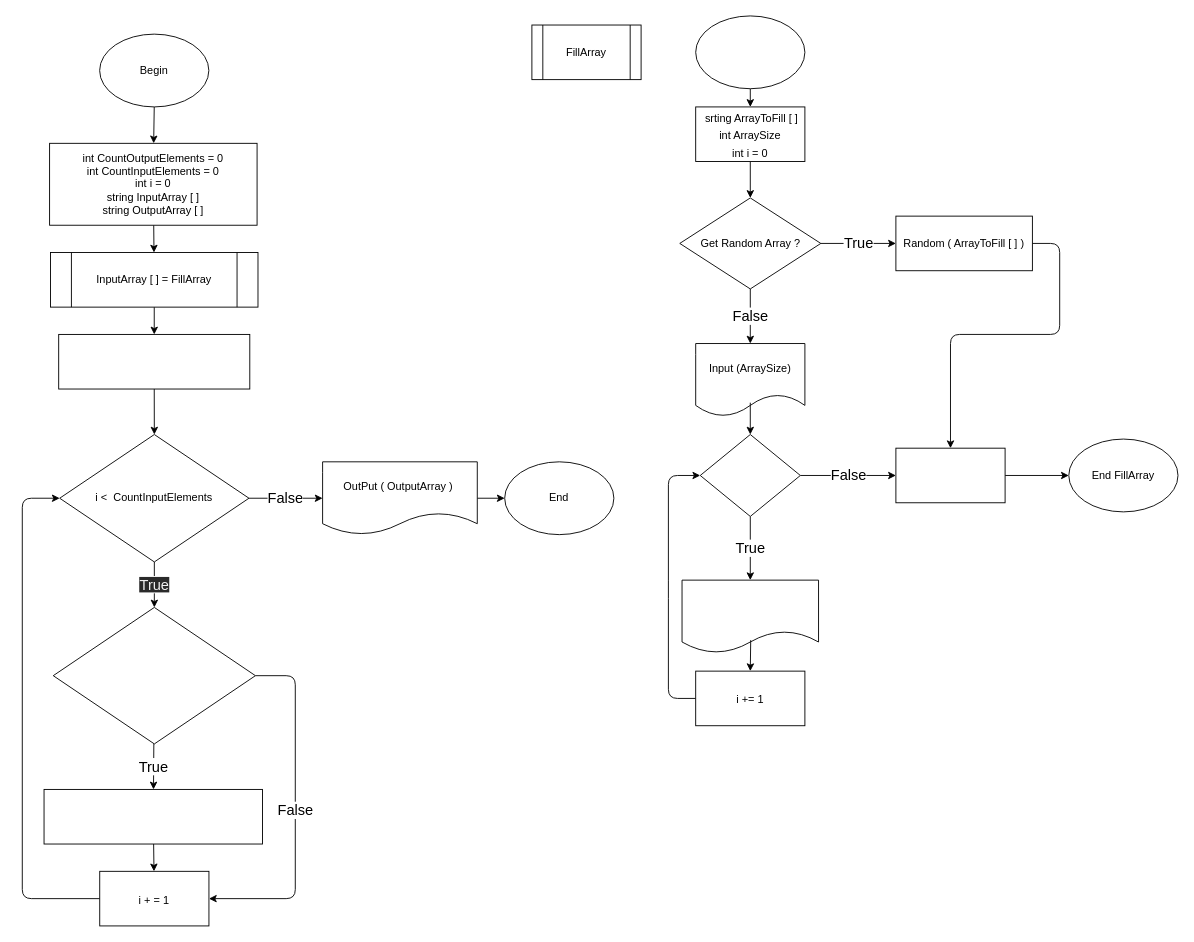
Some shapes in this 1194 by 942 pixel diagram are drawn without their labels. Here are the shapes that lost their labels. From the top down, the centre of each, then its label:
(x=750, y=52): Begin FillArray
(x=154, y=361): CountInputElements = ArraySize ( InputArray [ ] )
(x=749, y=475): i < ArraySize
(x=950, y=475): Return ArrayToFill
(x=750, y=616): Input ( ArrayToFill [ i ] )
(x=153, y=675): GetLength ( InputArray [ i ] ) <= 3
(x=153, y=816): OutputArray [ CountOutputElements ] = InputArray [ i ] CountOutputElements + = 1
